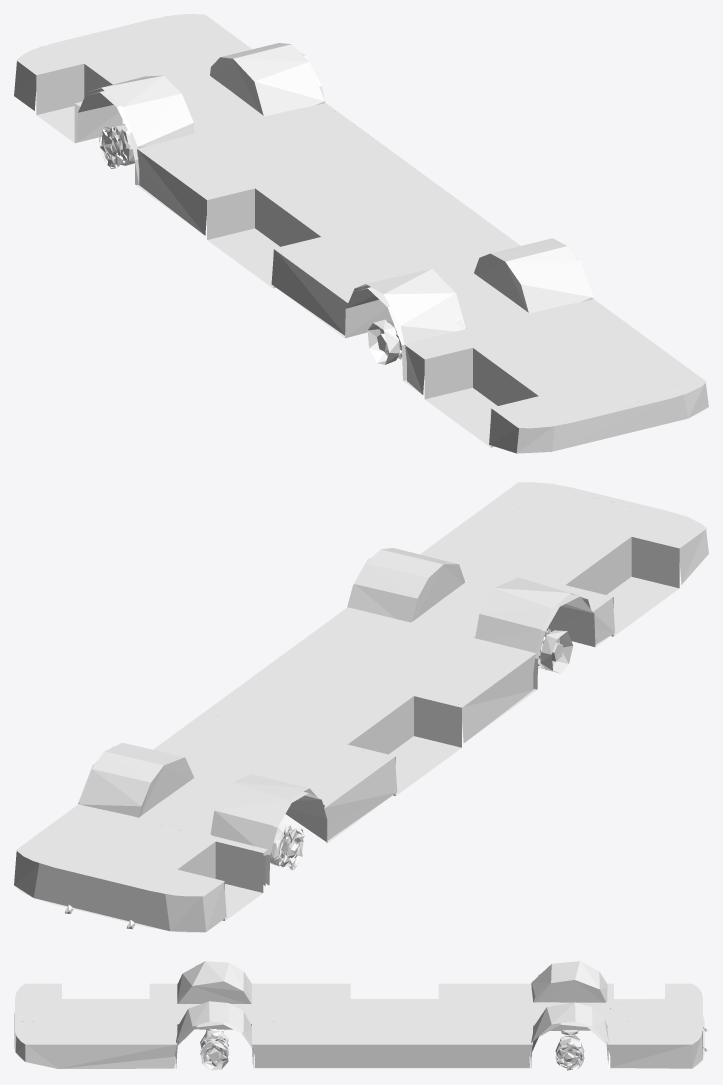
3 renders of one model, top to bottom at view 1: azimuth 30°, elevation 25°; view 2: azimuth 150°, elevation 25°; view 3: azimuth 270°, elevation 25°, orthographic. The views are drawn at different scales.
Size of the model in its own units: 2.37 by 0.898 by 11.18.
1 material, 1 textured.
